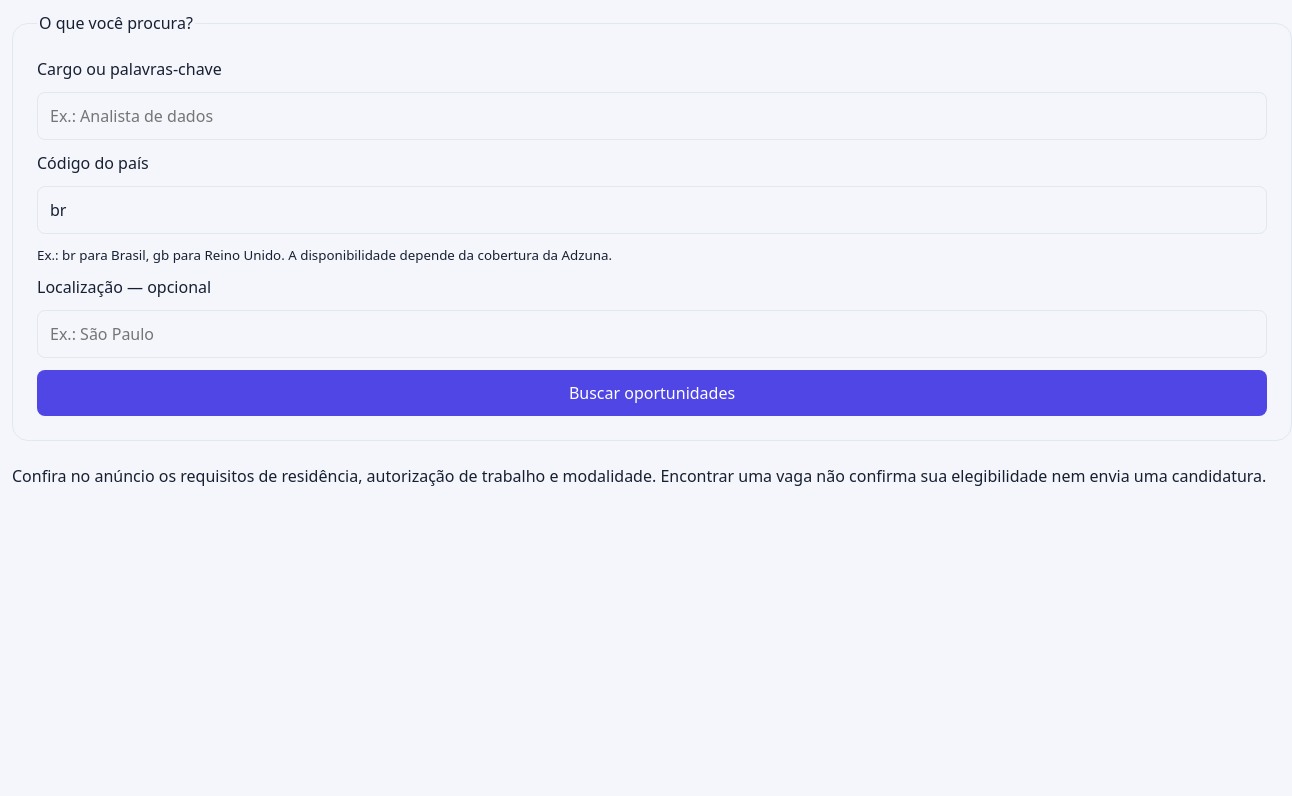
Test case: Busca de oportunidades › preserva os filtros após falha e permite tentar novamente
The width and height of the screenshot is (1292, 796).
Step 1. Type "Analista de dados" into the field labelled "Cargo ou palavras-chave" → (652, 116), box [37,92,1267,140]
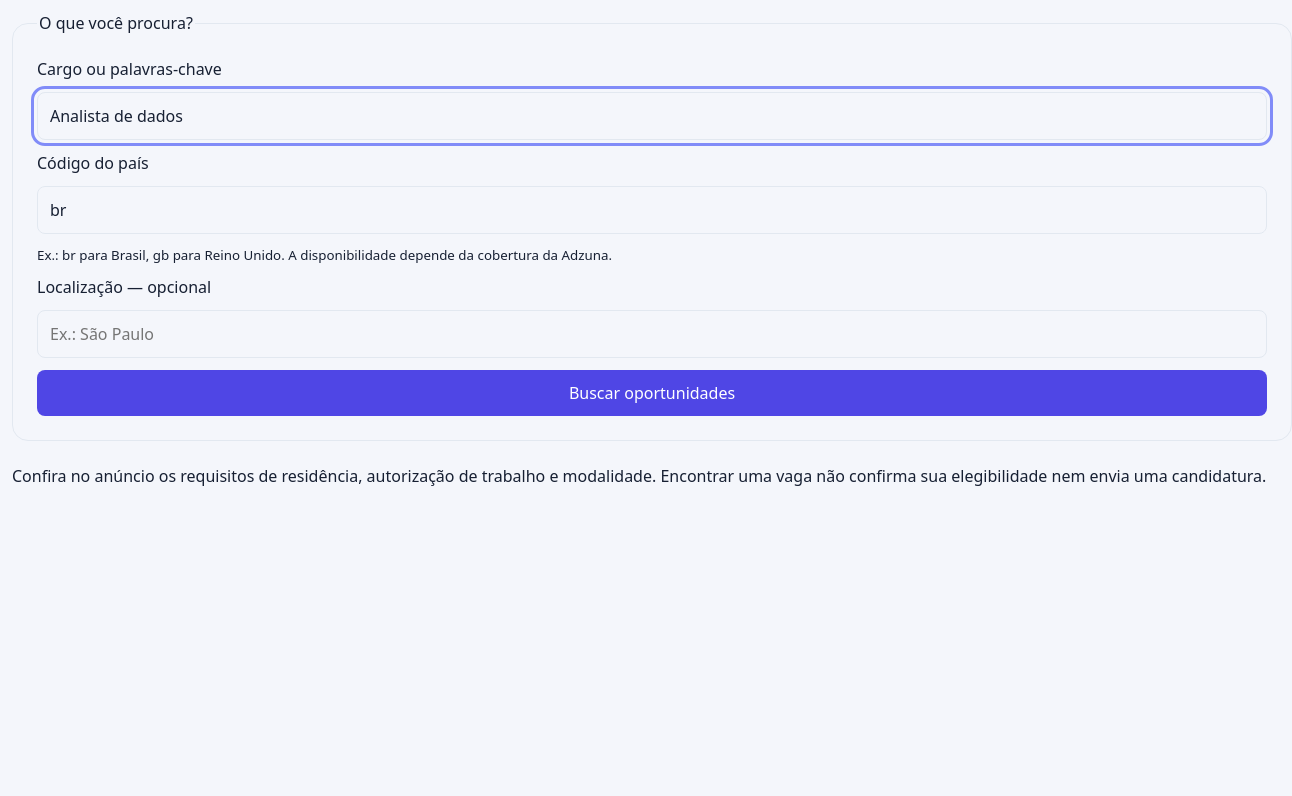
Step 2. Click the button "Buscar oportunidades" → (652, 393), box [37,370,1267,416]
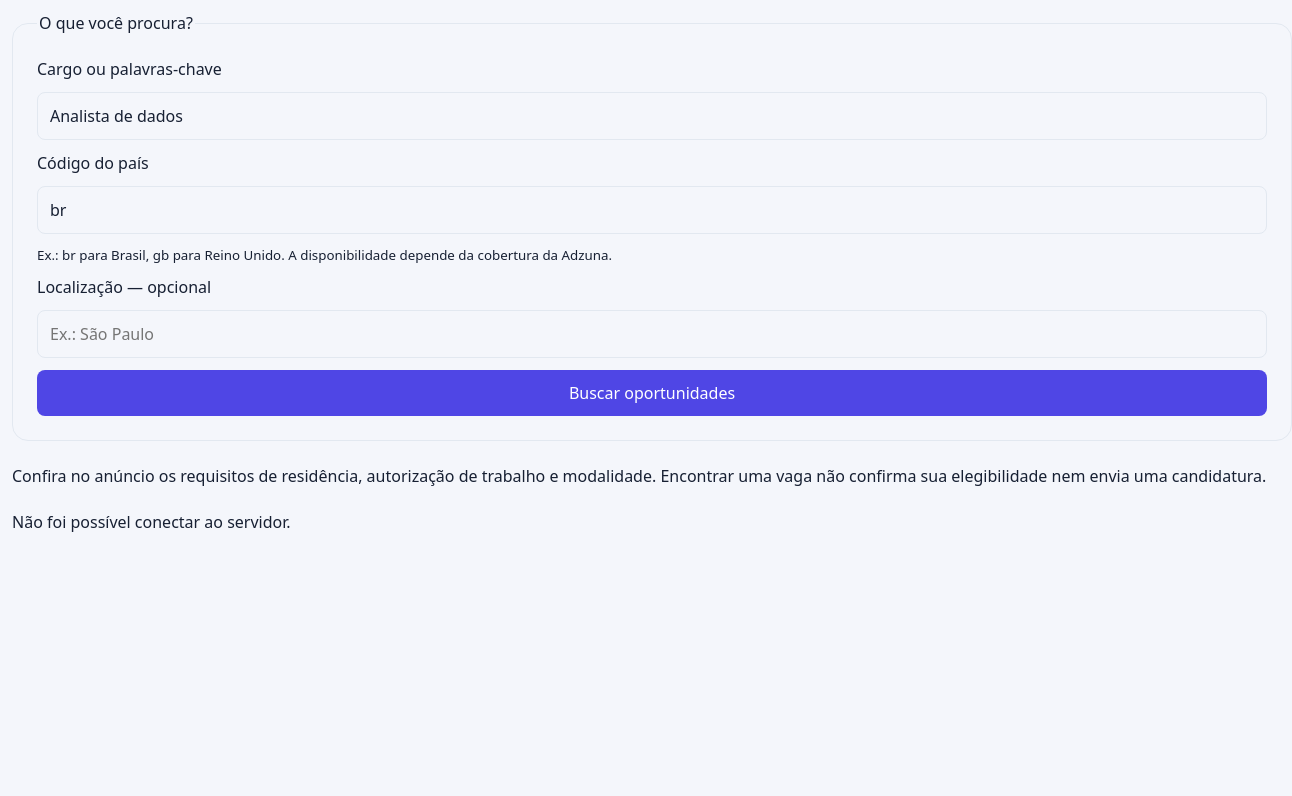
Expected: the message reads "Não foi possível conectar ao servidor.", [12,511,291,533]
Step 3. Click the button "Buscar oportunidades" → (652, 393), box [37,370,1267,416]
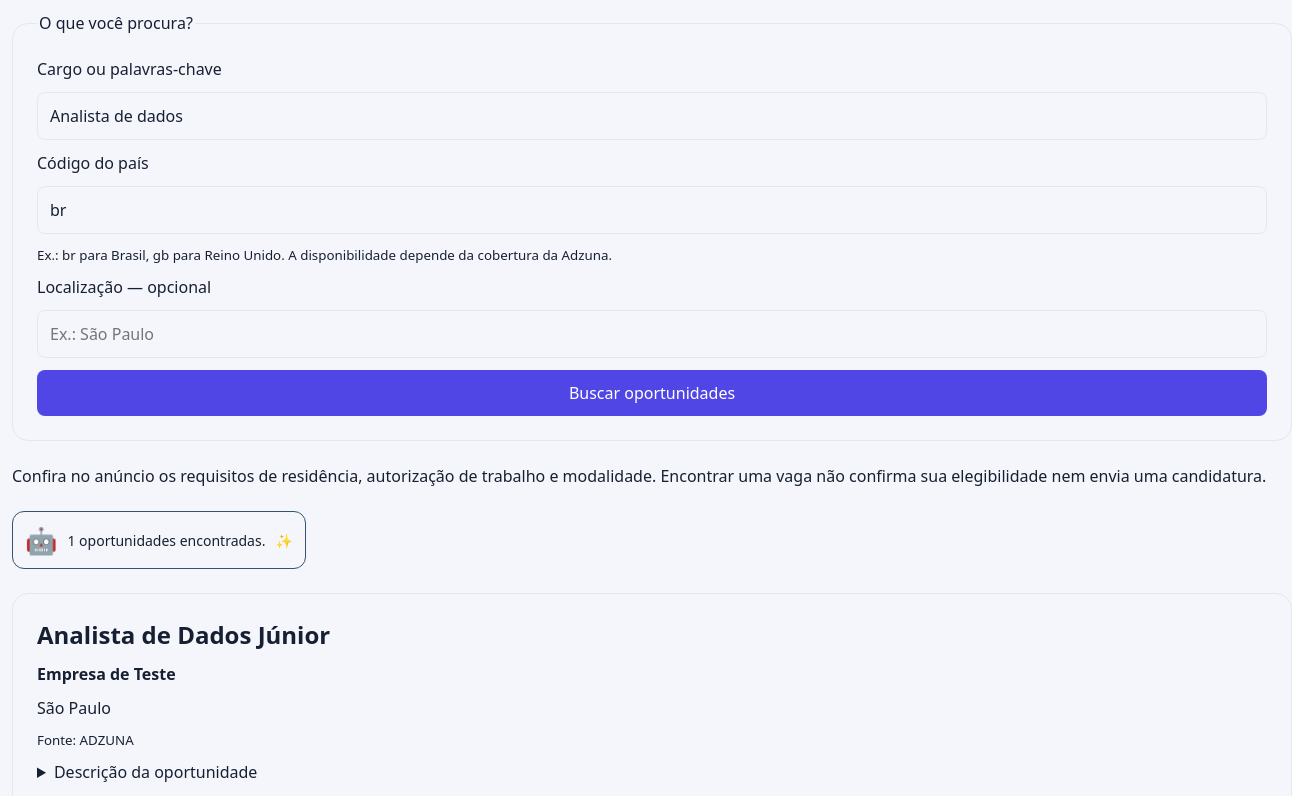
Expected: the heading "Analista de Dados Júnior" is shown, [37,618,330,651]
